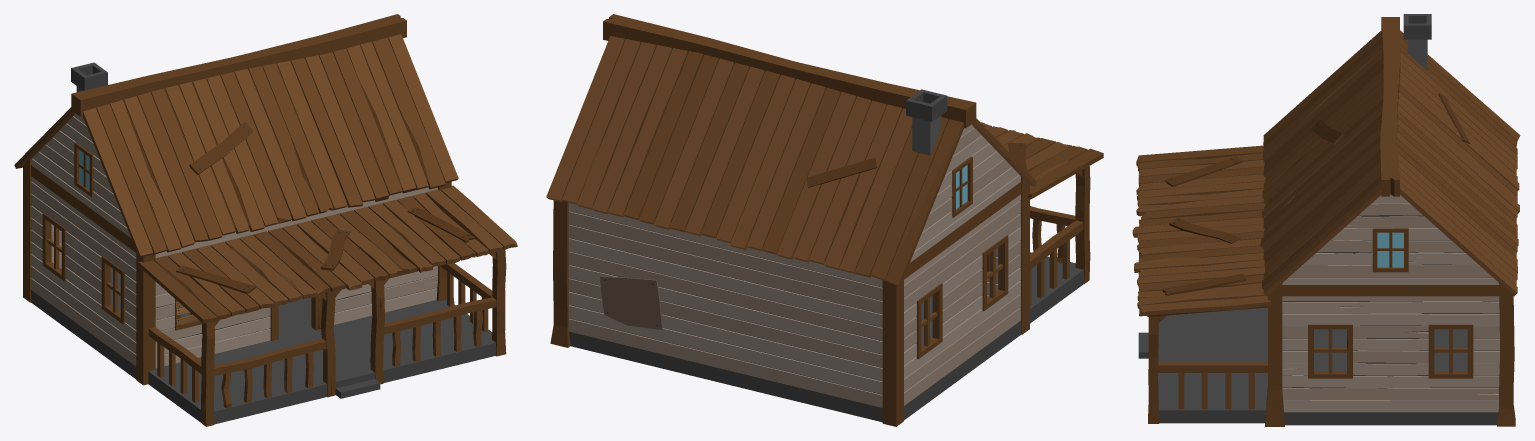
The model's file is House_02.fbx.
The picture shows the model from 3 angles, left to right: view 1: azimuth 30°, elevation 25°; view 2: azimuth 150°, elevation 25°; view 3: azimuth 270°, elevation 25°; orthographic projection. The views are drawn at different scales.
Parts seen in each view (by area): view 1: House_02; view 2: House_02; view 3: House_02.
Part boxes in pixels (box(x1,y1,x2,y2)): House_02: box(14, 14, 517, 426); House_02: box(546, 14, 1103, 426); House_02: box(1132, 14, 1520, 426).
Size of the model in its own units: 799 by 601 by 806.
